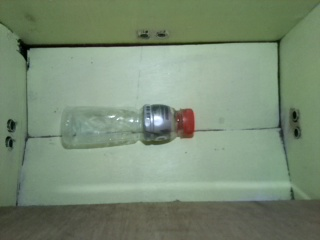bottle: (60, 103, 197, 149)
